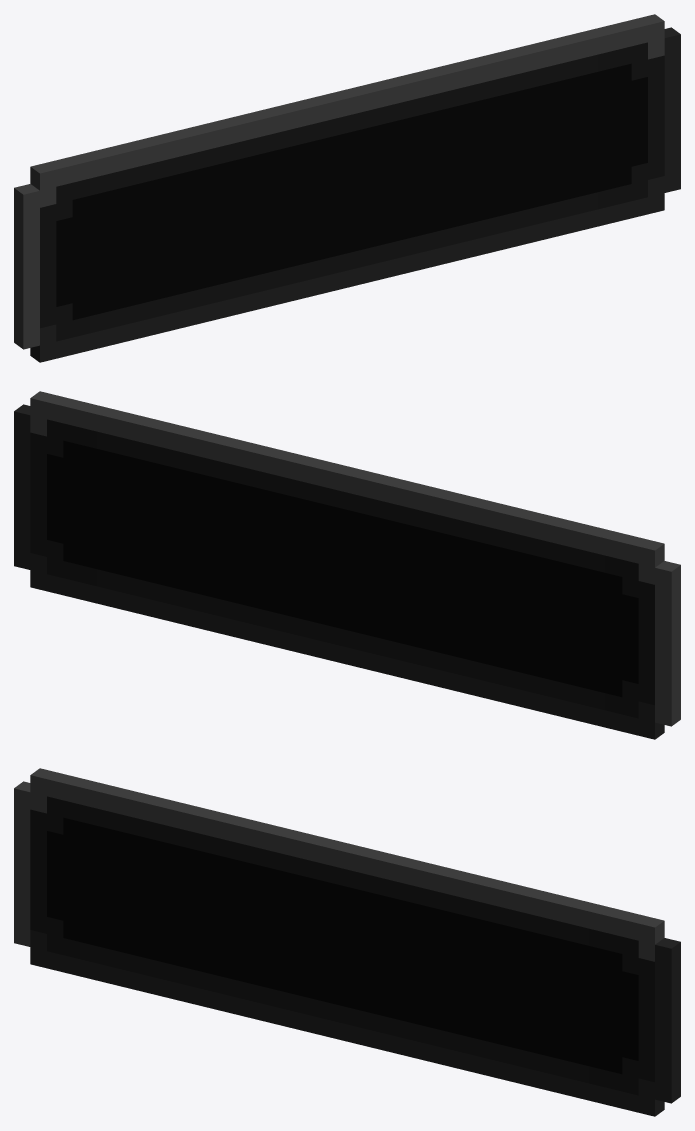
File: bar-10.obj
3 views of the same model, one above another, from view 1: azimuth 30°, elevation 25°; view 2: azimuth 150°, elevation 25°; view 3: azimuth 330°, elevation 25° (orthographic).
Size of the model in its own units: 4 by 1.1 by 0.1.
Materials: 1 (1 with a texture image).
